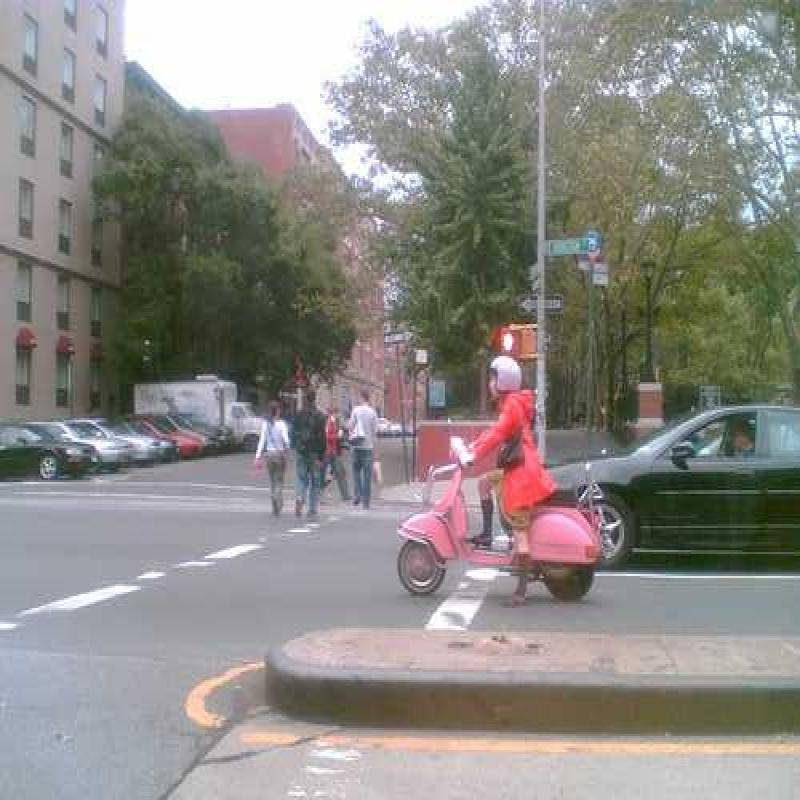bike: (393, 439, 613, 606)
